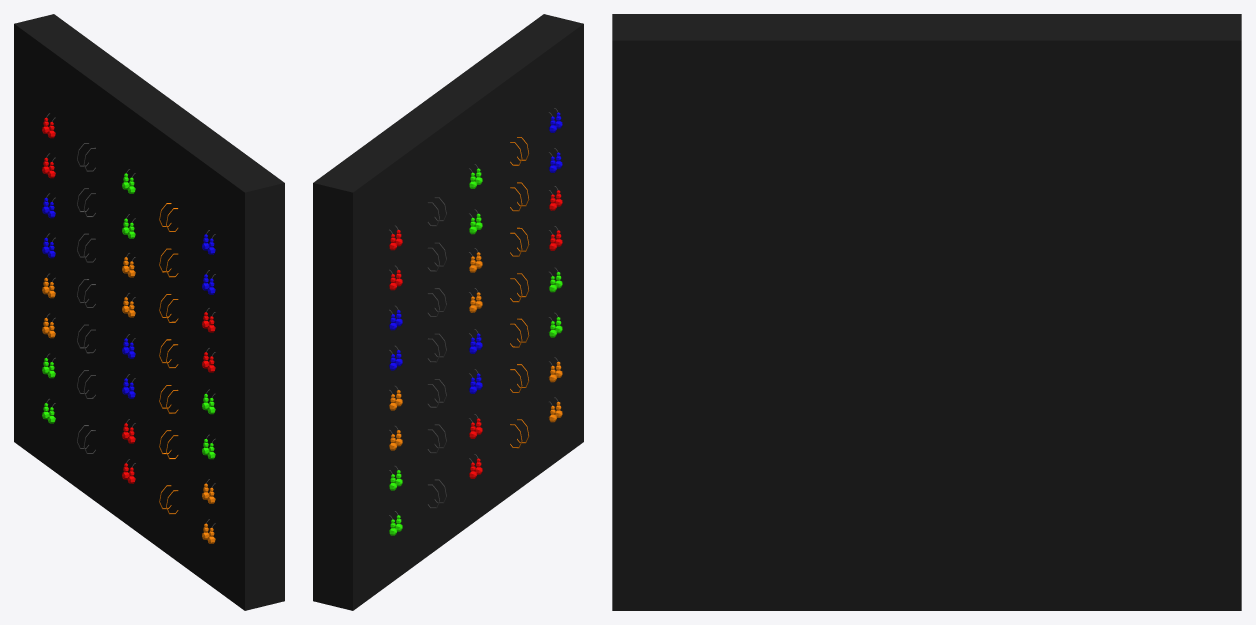
The model's file is EarringLarge.FBX.
3 renders of one model, left to right at view 1: azimuth 30°, elevation 25°; view 2: azimuth 150°, elevation 25°; view 3: azimuth 270°, elevation 25°, orthographic. The views are drawn at different scales.
Visible parts, largest first — view 1: Object008, Cylinder044; view 2: Object008, Cylinder044; view 3: Object008.
Boxes of the visible parts, x1,y1,x2,y2 form: Object008: (14,14,284,610); Cylinder044: (42,113,215,543); Object008: (313,14,583,610); Cylinder044: (389,108,562,535); Object008: (612,14,1241,610).
Size of the model in its own units: 0.1304 by 1 by 1.
